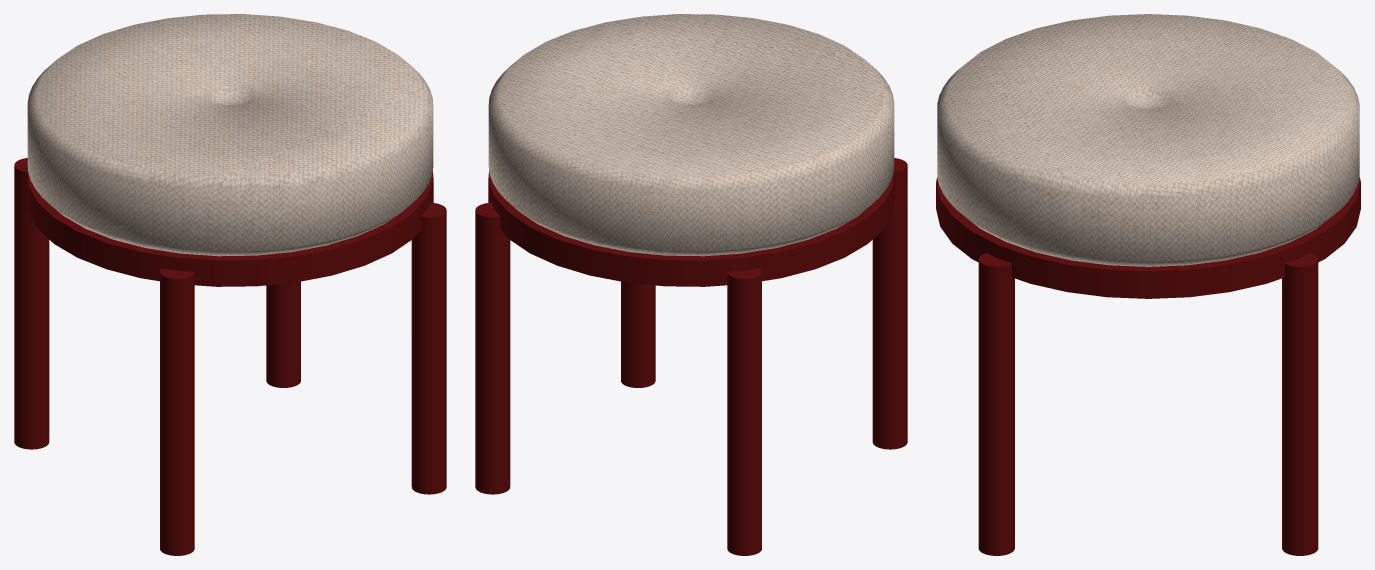
File: furniture_seating_210054.glb
3 views of the same model, side by side, from view 1: azimuth 30°, elevation 25°; view 2: azimuth 150°, elevation 25°; view 3: azimuth 270°, elevation 25° (orthographic). The views are drawn at different scales.
Parts seen in each view (by area): view 1: furniture_seating_210054; view 2: furniture_seating_210054; view 3: furniture_seating_210054.
Part boxes in pixels (<box>): furniture_seating_210054: <box>14,14,446,555</box>; furniture_seating_210054: <box>475,14,907,555</box>; furniture_seating_210054: <box>936,14,1360,555</box>.
Size of the model in its own units: 0.336 by 0.336 by 0.336.
1 material, 1 textured.
